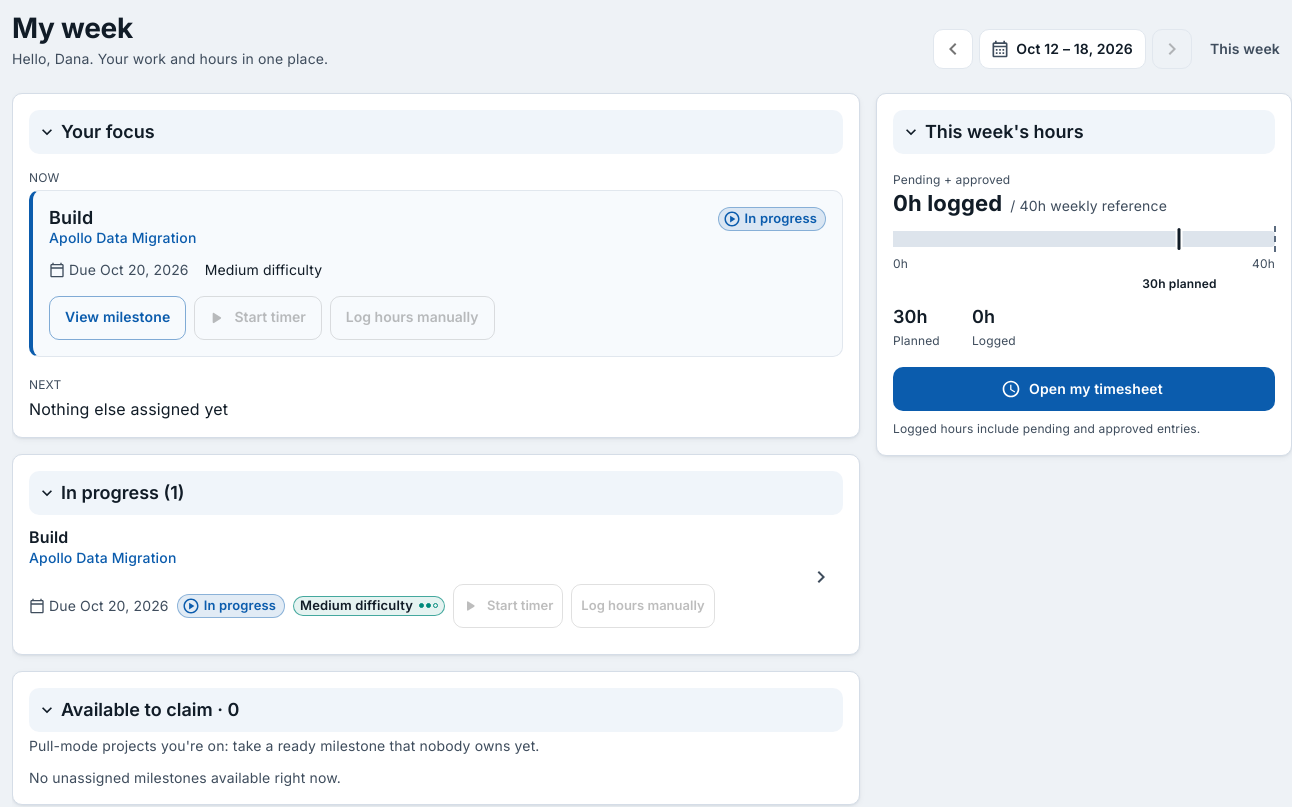
Test: hidden where Start timer is hidden › the public demo admin who tracks hours sees it disabled, with the demo tooltip
Hover over the element showing "Log hours manually" in the row of "View milestone" at (412, 318), box [330,296,495,340]
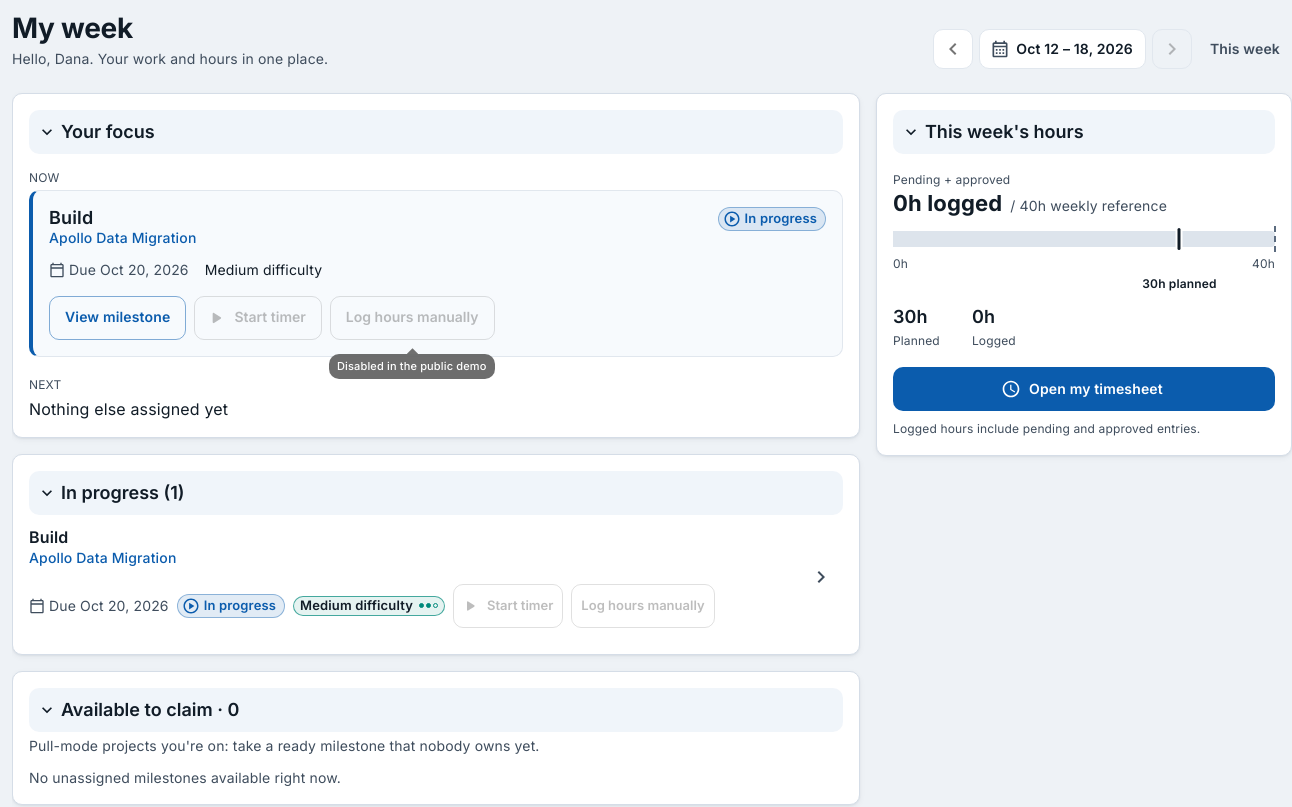
Expected: the tooltip reads "Disabled in the public demo", [337,359,486,373]
